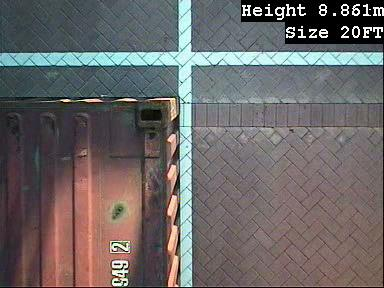groundmarker_2: (4, 95, 76, 153)
